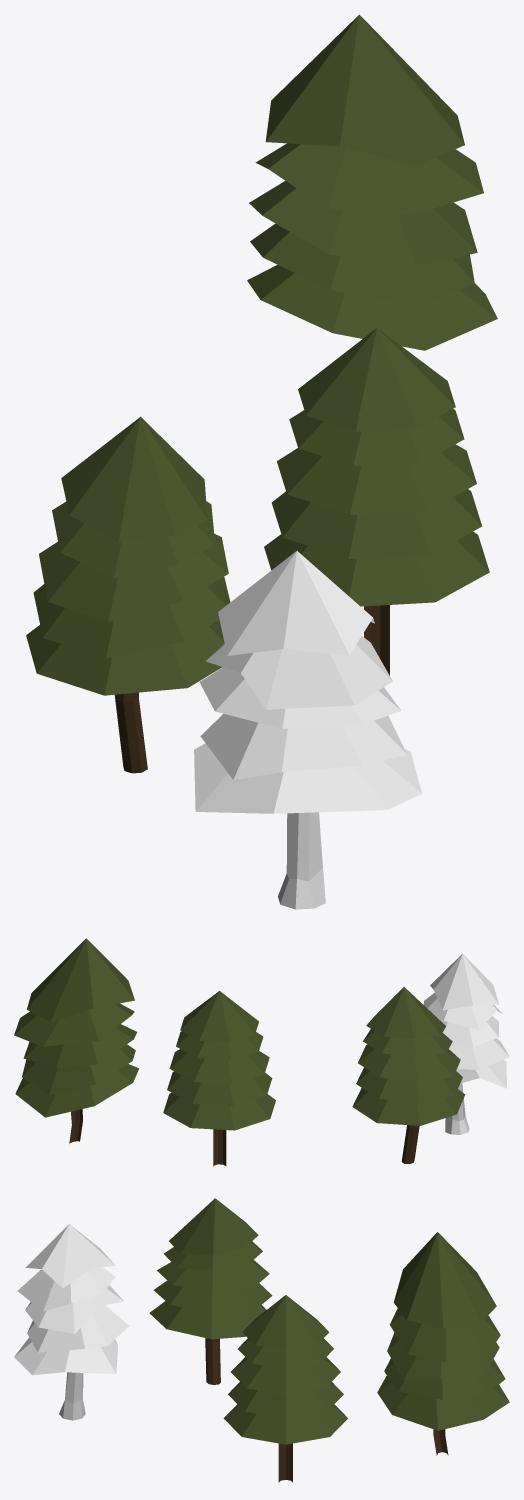
The model's file is ağaç.fbx.
3 views of the same model, one above another, from view 1: azimuth 30°, elevation 25°; view 2: azimuth 150°, elevation 25°; view 3: azimuth 270°, elevation 25° (orthographic). The views are drawn at different scales.
Visible parts, largest first — view 1: Circle.004, Circle.003, Circle.002, Circle.001; view 2: Circle.004, Circle.002, Circle.001, Circle.003; view 3: Circle.004, Circle.002, Circle.003, Circle.001.
Boxes of the visible parts, box(x1,y1,x2,y2) form: Circle.004: box(247, 14, 497, 350); Circle.003: box(194, 551, 421, 909); Circle.002: box(264, 328, 489, 675); Circle.001: box(26, 416, 230, 773); Circle.004: box(14, 938, 139, 1143); Circle.002: box(163, 991, 275, 1166); Circle.001: box(352, 987, 465, 1164); Circle.003: box(423, 953, 509, 1134); Circle.004: box(377, 1232, 509, 1455); Circle.002: box(223, 1295, 347, 1482); Circle.003: box(14, 1224, 128, 1420); Circle.001: box(149, 1198, 272, 1384).
Size of the model in its own units: 812 by 634 by 992.
